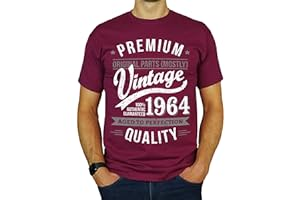design: (107, 36, 192, 145)
